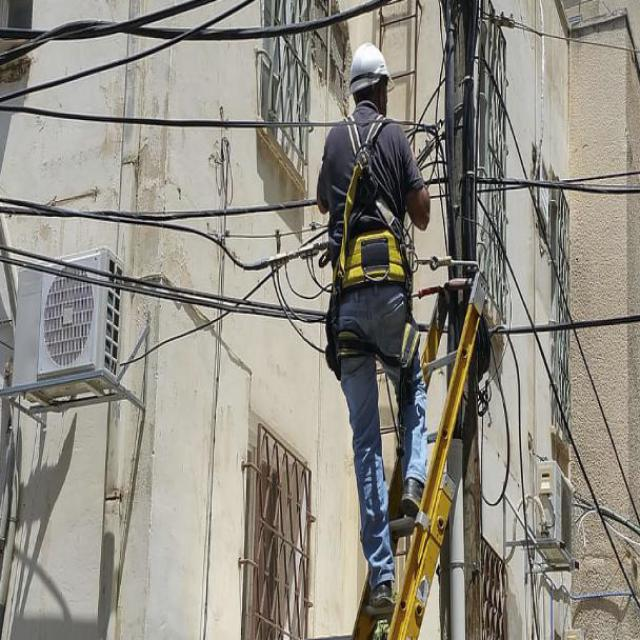helmet: (345, 43, 400, 109)
